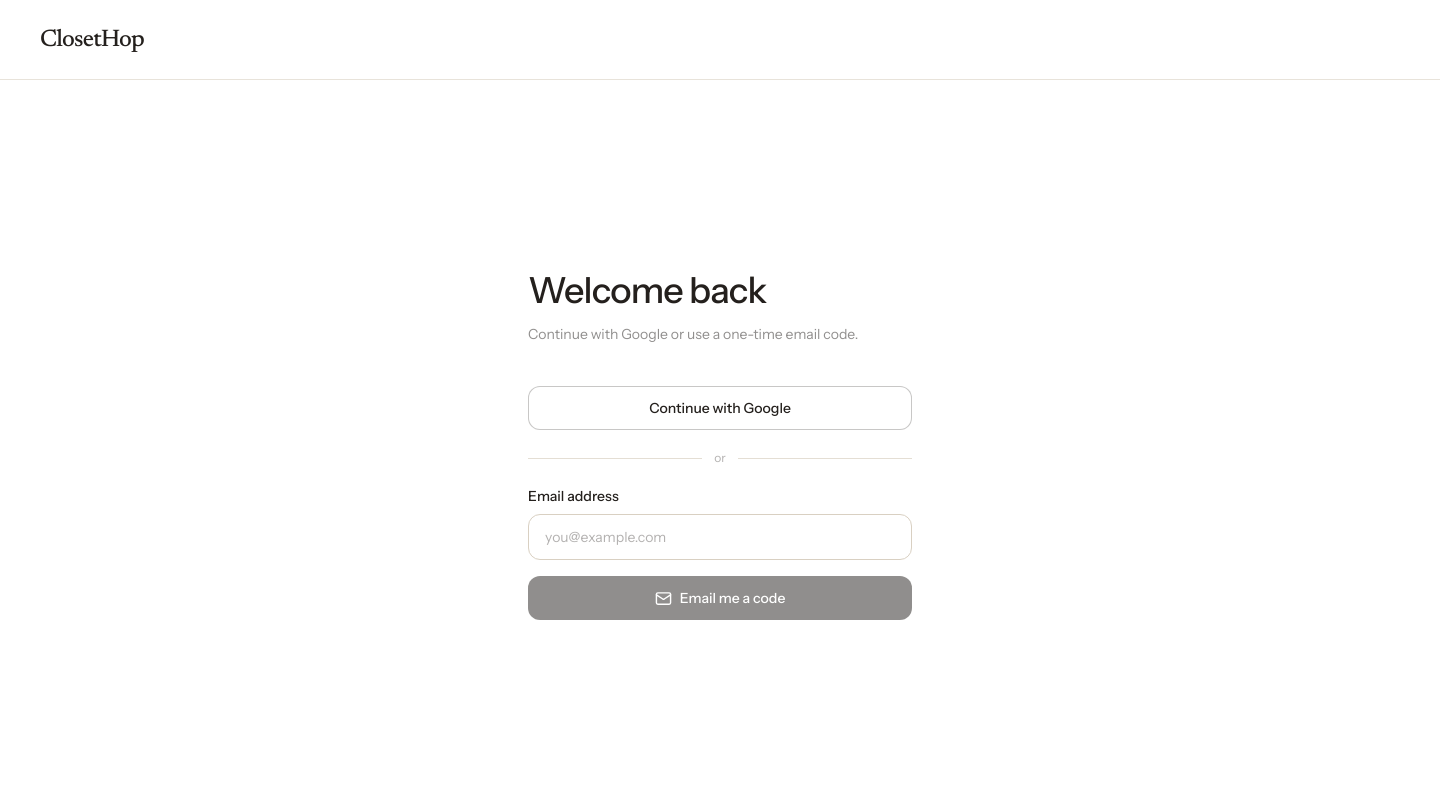
Test case: AuthPage Google sign-in › shows auth errors when Google sign-in fails for another reason
Click the button "Continue with Google": (720, 408) [528, 386, 912, 430]
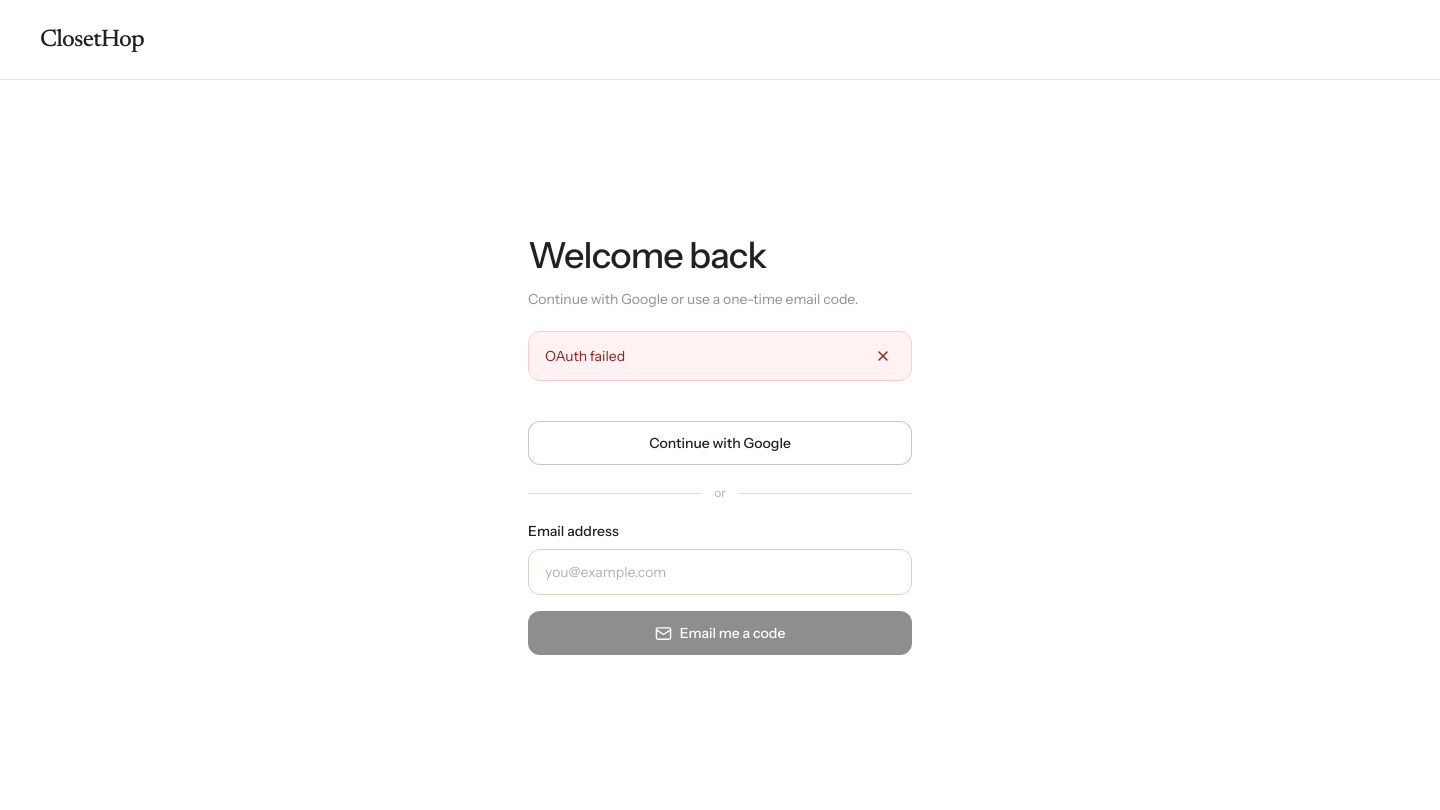
Now the text "OAuth failed" is shown, box [545, 347, 625, 365]
